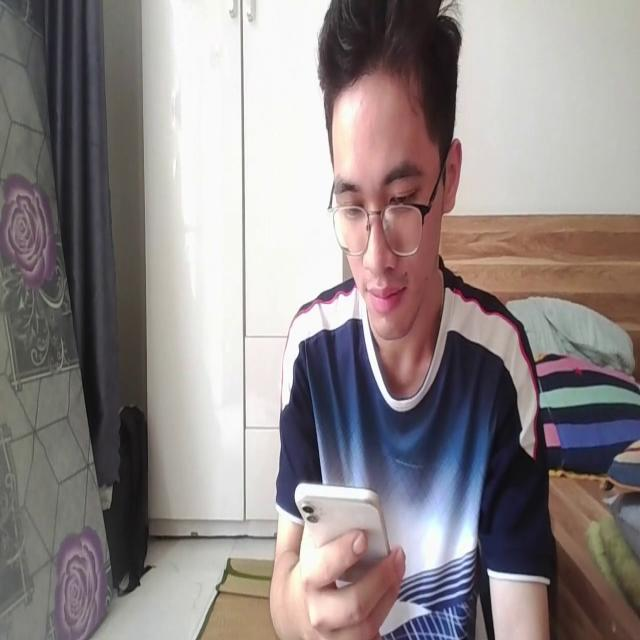phone: (295, 473, 398, 578)
student: (273, 1, 553, 640)
